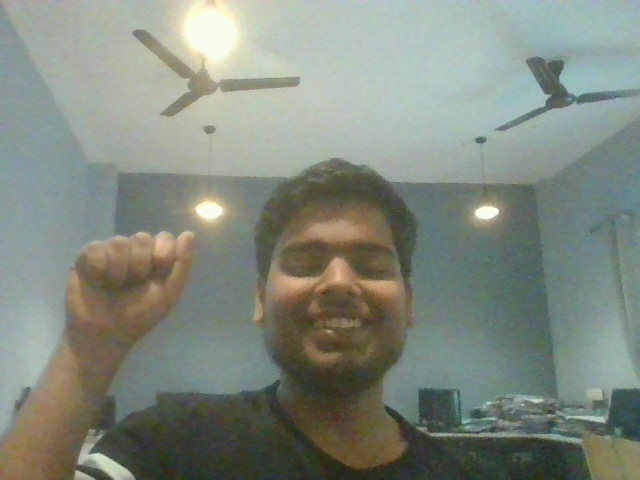A: (42, 207, 230, 369)
